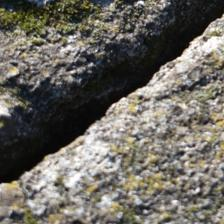Crack: (3, 5, 212, 178)
